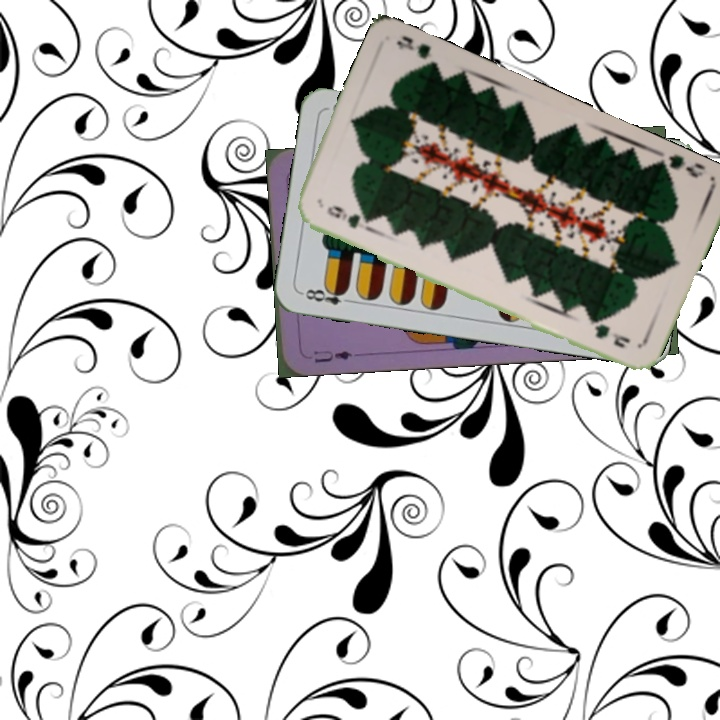E8: (298, 283, 357, 308)
EU: (309, 346, 355, 365)
G9: (653, 150, 707, 181), (323, 201, 363, 231)
